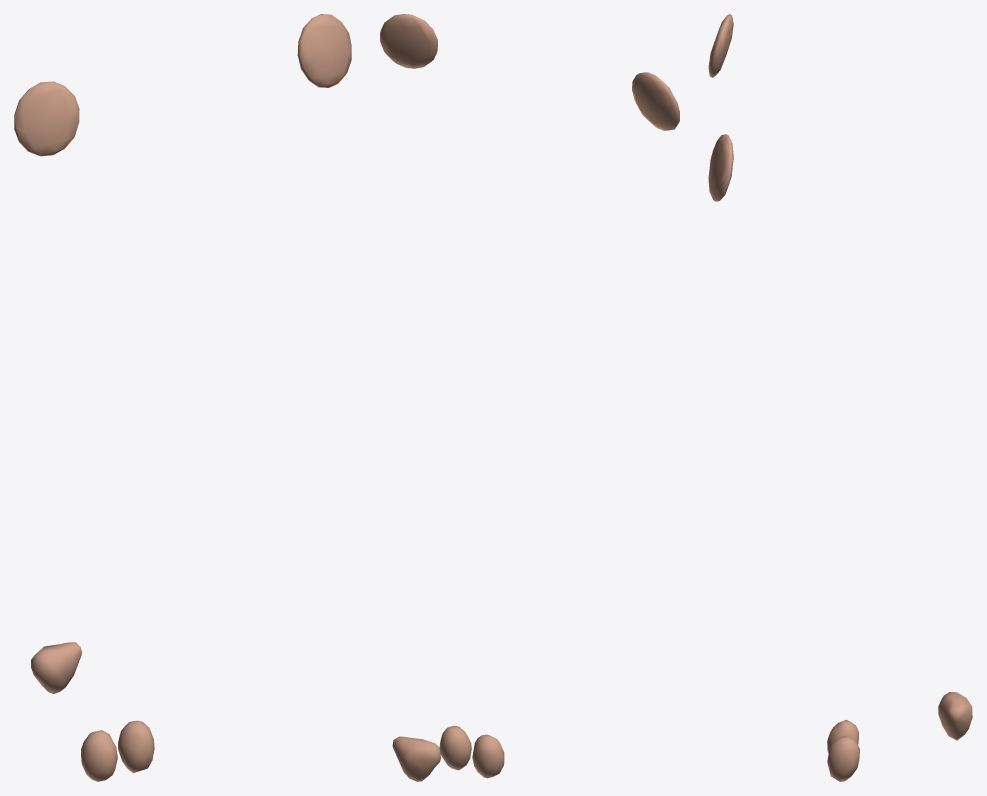
Rendered from pediatric_infant_male.reproductive.LOD2.glb.
3 views of the same model, side by side, from view 1: azimuth 30°, elevation 25°; view 2: azimuth 150°, elevation 25°; view 3: azimuth 270°, elevation 25° (orthographic). The views are drawn at different scales.
Visible parts, largest first — view 1: PEDIATRIC.INFANT.MALE.REPRODUCTIVE.BREAST_ADIPOSE_TISSUE.R, PEDIATRIC.INFANT.MALE.REPRODUCTIVE.BREAST_ADIPOSE_TISSUE.L, PEDIATRIC.INFANT.MALE.REPRODUCTIVE.PROSTATE, PEDIATRIC.INFANT.MALE.REPRODUCTIVE.TESTIS.L, PEDIATRIC.INFANT.MALE.REPRODUCTIVE.TESTIS.R; view 2: PEDIATRIC.INFANT.MALE.REPRODUCTIVE.BREAST_ADIPOSE_TISSUE.L, PEDIATRIC.INFANT.MALE.REPRODUCTIVE.BREAST_ADIPOSE_TISSUE.R, PEDIATRIC.INFANT.MALE.REPRODUCTIVE.PROSTATE, PEDIATRIC.INFANT.MALE.REPRODUCTIVE.TESTIS.R, PEDIATRIC.INFANT.MALE.REPRODUCTIVE.TESTIS.L; view 3: PEDIATRIC.INFANT.MALE.REPRODUCTIVE.BREAST_ADIPOSE_TISSUE.L, PEDIATRIC.INFANT.MALE.REPRODUCTIVE.PROSTATE, PEDIATRIC.INFANT.MALE.REPRODUCTIVE.TESTIS.L, PEDIATRIC.INFANT.MALE.REPRODUCTIVE.BREAST_ADIPOSE_TISSUE.R, PEDIATRIC.INFANT.MALE.REPRODUCTIVE.TESTIS.R.
Part boxes in pixels (box(x1,y1,x2,y2)): PEDIATRIC.INFANT.MALE.REPRODUCTIVE.BREAST_ADIPOSE_TISSUE.R: box(14, 81, 79, 156); PEDIATRIC.INFANT.MALE.REPRODUCTIVE.BREAST_ADIPOSE_TISSUE.L: box(297, 14, 351, 87); PEDIATRIC.INFANT.MALE.REPRODUCTIVE.PROSTATE: box(31, 642, 81, 693); PEDIATRIC.INFANT.MALE.REPRODUCTIVE.TESTIS.L: box(118, 720, 154, 772); PEDIATRIC.INFANT.MALE.REPRODUCTIVE.TESTIS.R: box(81, 730, 117, 781); PEDIATRIC.INFANT.MALE.REPRODUCTIVE.BREAST_ADIPOSE_TISSUE.L: box(380, 14, 437, 68); PEDIATRIC.INFANT.MALE.REPRODUCTIVE.BREAST_ADIPOSE_TISSUE.R: box(632, 72, 679, 130); PEDIATRIC.INFANT.MALE.REPRODUCTIVE.PROSTATE: box(392, 736, 440, 781); PEDIATRIC.INFANT.MALE.REPRODUCTIVE.TESTIS.R: box(472, 734, 504, 778); PEDIATRIC.INFANT.MALE.REPRODUCTIVE.TESTIS.L: box(439, 725, 471, 770); PEDIATRIC.INFANT.MALE.REPRODUCTIVE.BREAST_ADIPOSE_TISSUE.L: box(708, 134, 733, 201); PEDIATRIC.INFANT.MALE.REPRODUCTIVE.PROSTATE: box(938, 692, 972, 740); PEDIATRIC.INFANT.MALE.REPRODUCTIVE.TESTIS.L: box(827, 736, 859, 781); PEDIATRIC.INFANT.MALE.REPRODUCTIVE.BREAST_ADIPOSE_TISSUE.R: box(708, 14, 733, 77); PEDIATRIC.INFANT.MALE.REPRODUCTIVE.TESTIS.R: box(827, 719, 858, 753).
Bounding box in the file's own units: 0.1075 × 0.2355 × 0.0811.
